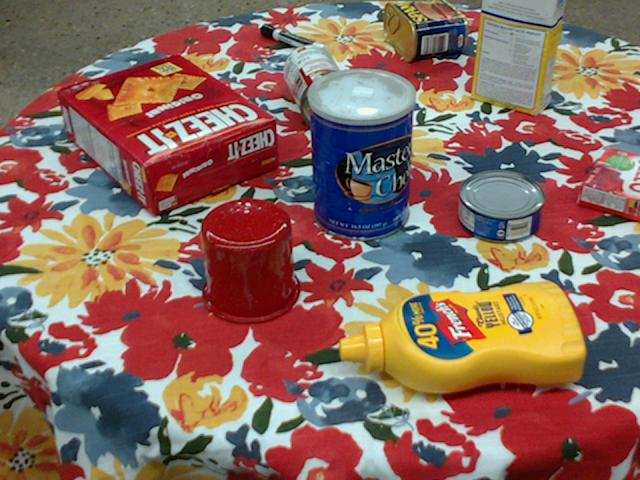cracker_box: (59, 54, 279, 213)
gelatin_box: (577, 148, 639, 222)
large_marker: (262, 23, 328, 57)
master_chef_can: (307, 67, 415, 241)
mug: (199, 197, 301, 324)
mustard_bottle: (341, 278, 588, 392)
potted_meat_can: (384, 0, 468, 60)
sugar_box: (471, 0, 567, 116)
tomato_soup_can: (282, 43, 356, 129)
tuna_fish_can: (459, 171, 546, 243)
